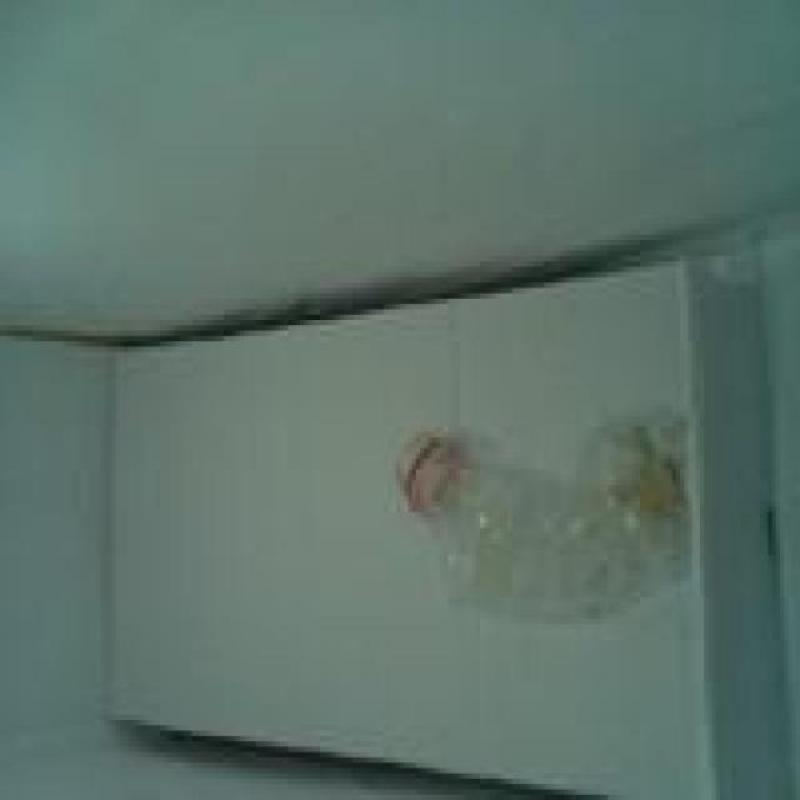botella: (392, 407, 692, 622)
